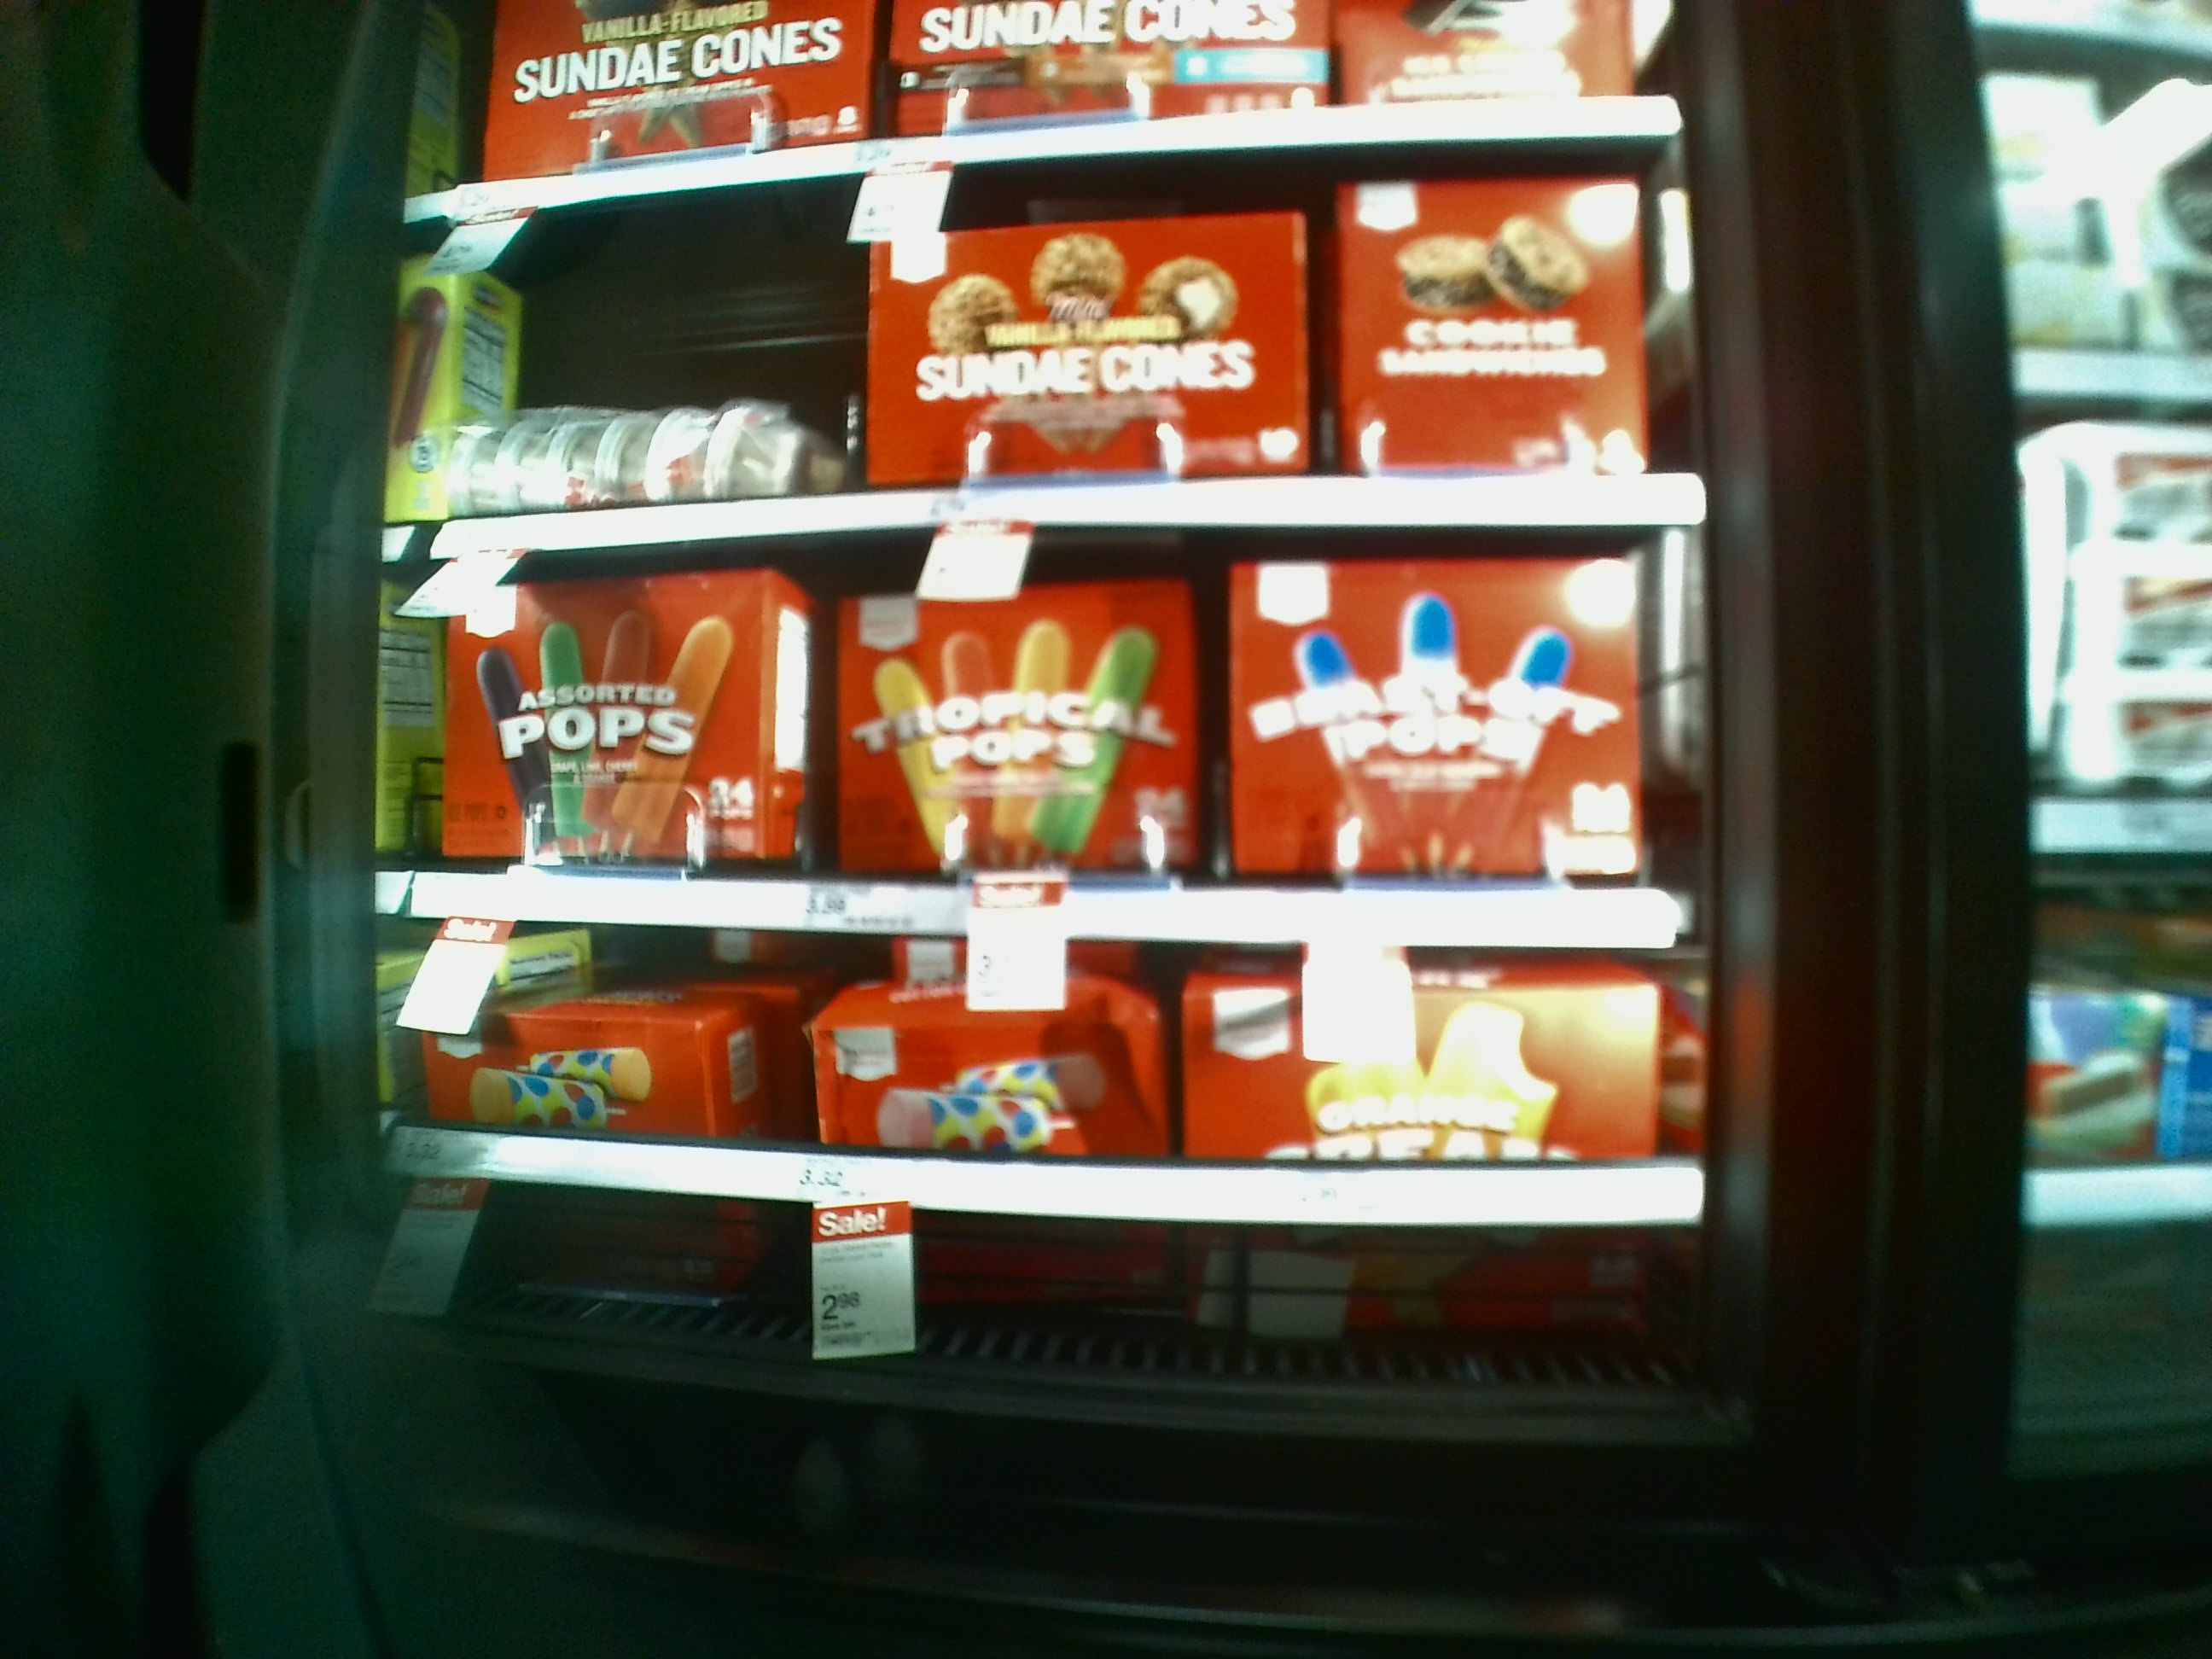shelf: (357, 924, 1740, 1445), (383, 558, 1707, 950), (404, 209, 1712, 552)
